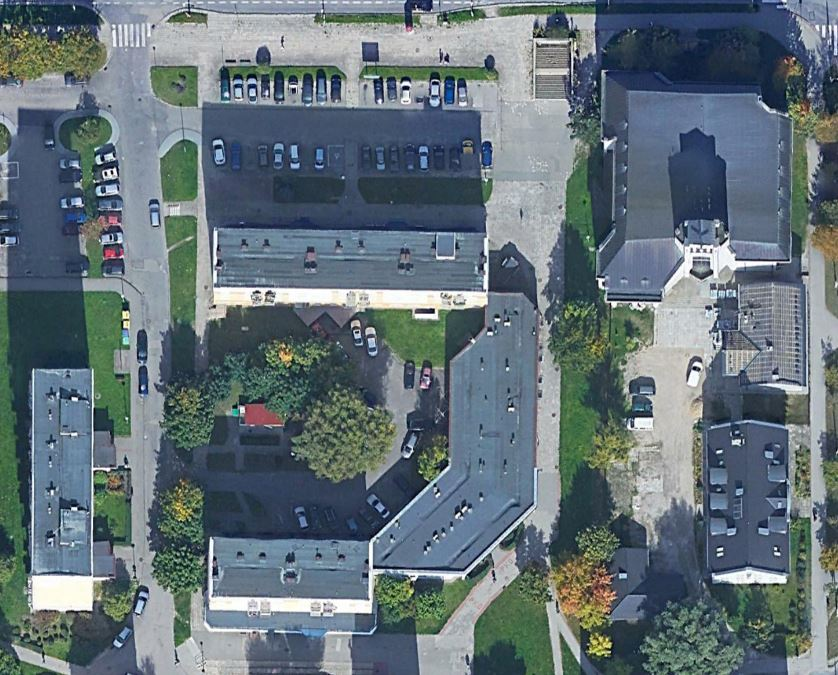block of flats: (356, 283, 549, 581), (199, 219, 496, 316), (192, 524, 383, 647), (18, 360, 101, 623), (695, 411, 803, 591)
church: (575, 56, 802, 313)
